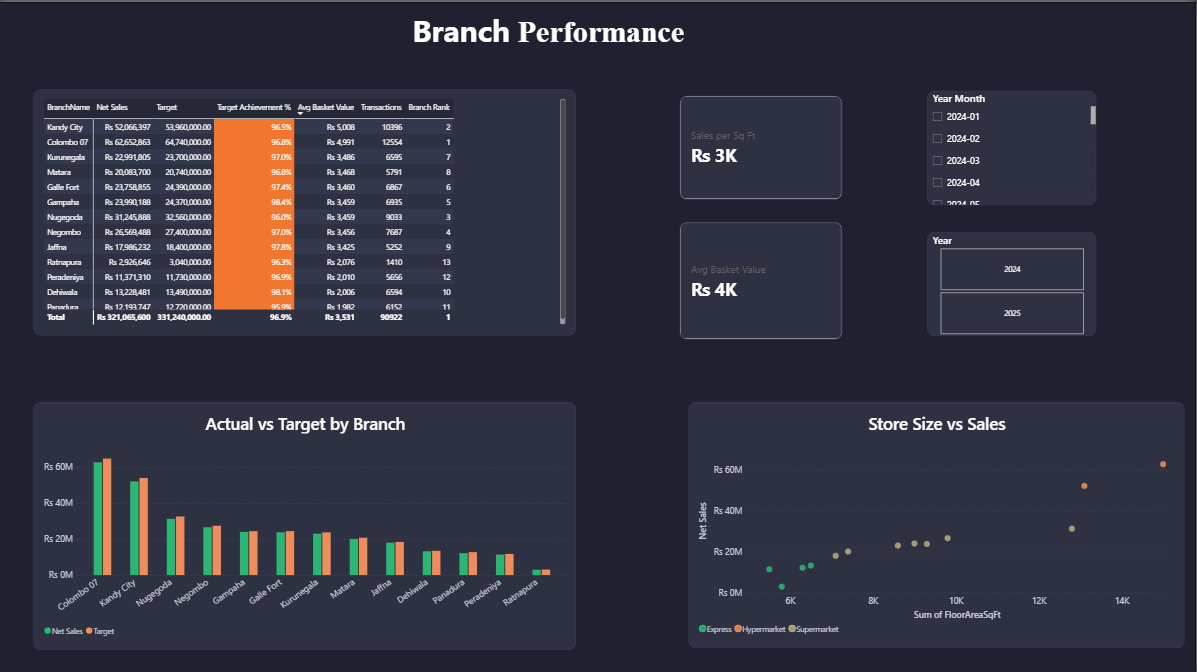

Layout of this report page (visuals, bound fields, positions):
{"tool":"powerbi","page":{"name":"Branch Performance","canvas":[1920,1080],"ordinal":1},"visuals":[{"type":"textbox","box":[10,0,280,280],"z":0},{"type":"slicer","fields":{"Values":["Date.Year"]},"box":[1490,368,270,166],"z":1000},{"type":"textbox","box":[666.7,11.7,976,162],"z":2000},{"type":"pivotTable","fields":{"Rows":["branches.BranchName"],"Values":["_Measures.Net Sales","_Measures.Target","_Measures.Target Achievement %","_Measures.Avg Basket Value","_Measures.Transactions","_Measures.Branch Rank"]},"box":[60,140,868.3,393.3],"z":3000},{"type":"clusteredColumnChart","title":"Actual vs Target by Branch","fields":{"Category":["branches.BranchName"],"Y":["_Measures.Net Sales","_Measures.Target"]},"box":[60,640,868.3,396.7],"z":4000},{"type":"scatterChart","title":"Store Size vs Sales","fields":{"Category":["branches.BranchName"],"Series":["branches.Format"],"X":["Sum(branches.FloorAreaSqFt)"],"Y":["_Measures.Net Sales"]},"box":[1108,640,793.3,393.3],"z":5000},{"type":"slicer","fields":{"Values":["Date.Year Month"]},"box":[1490,142,270,183.3],"z":6000},{"type":"cardVisual","fields":{"Data":["_Measures.Avg Basket Value"]},"box":[1094,352,260,188],"z":7000},{"type":"cardVisual","fields":{"Data":["_Measures.Sales per Sq Ft"]},"box":[1094,150,260,166],"z":8000}]}

Visuals, with their boxes in screenshot pixels (x1, y1, x2, y2), scaled from the page's 1920x1080 canvas onto the 1197x672 screenshot:
textbox: x1=6 y1=0 x2=181 y2=174
slicer - Date.Year: x1=929 y1=229 x2=1097 y2=332
textbox: x1=416 y1=7 x2=1024 y2=108
pivotTable - branches.BranchName x _Measures.Net Sales: x1=37 y1=87 x2=579 y2=332
"Actual vs Target by Branch" clusteredColumnChart: x1=37 y1=398 x2=579 y2=645
"Store Size vs Sales" scatterChart: x1=691 y1=398 x2=1185 y2=643
slicer - Date.Year Month: x1=929 y1=88 x2=1097 y2=202
cardVisual - _Measures.Avg Basket Value: x1=682 y1=219 x2=844 y2=336
cardVisual - _Measures.Sales per Sq Ft: x1=682 y1=93 x2=844 y2=197
